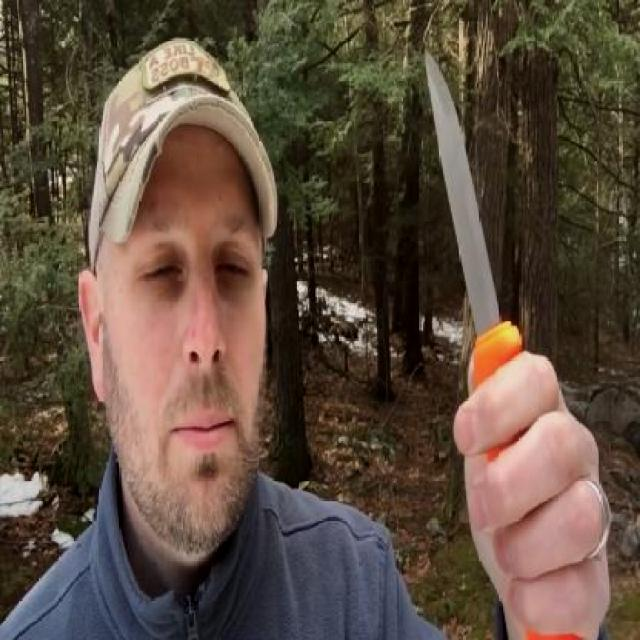knife: (417, 38, 585, 520)
